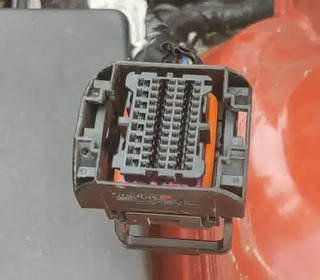connector: (72, 61, 252, 252)
